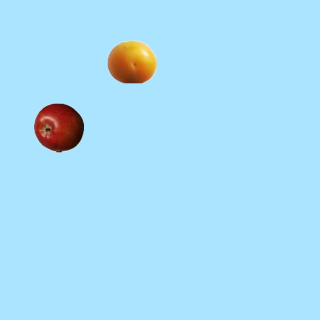Apple Braeburn: (33, 102, 83, 152)
Cherry Wax Yellow: (106, 36, 156, 86)
